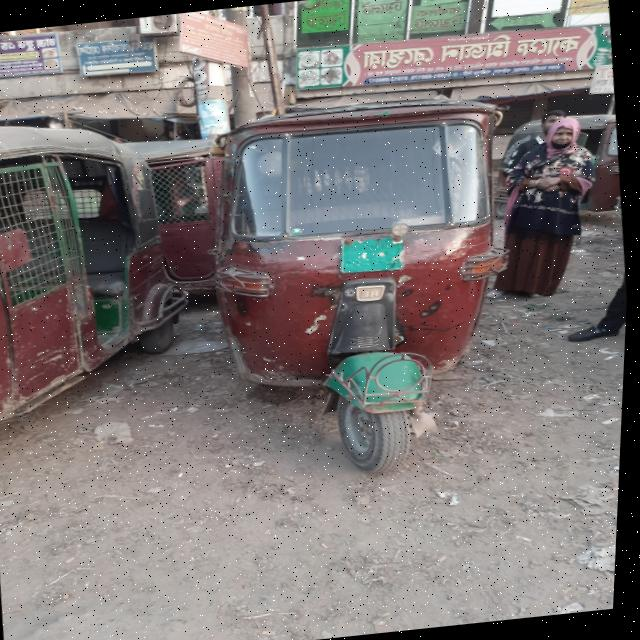cng: (152, 40, 604, 496)
